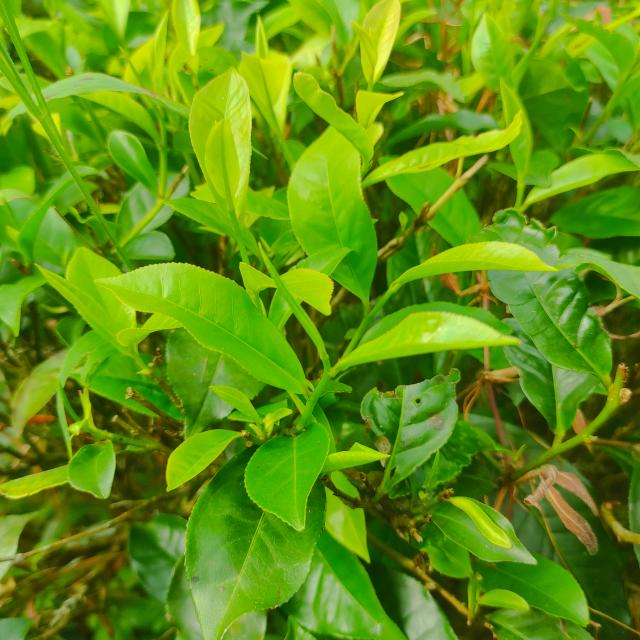unopened_leaf: (250, 236, 334, 373), (114, 40, 166, 121)
